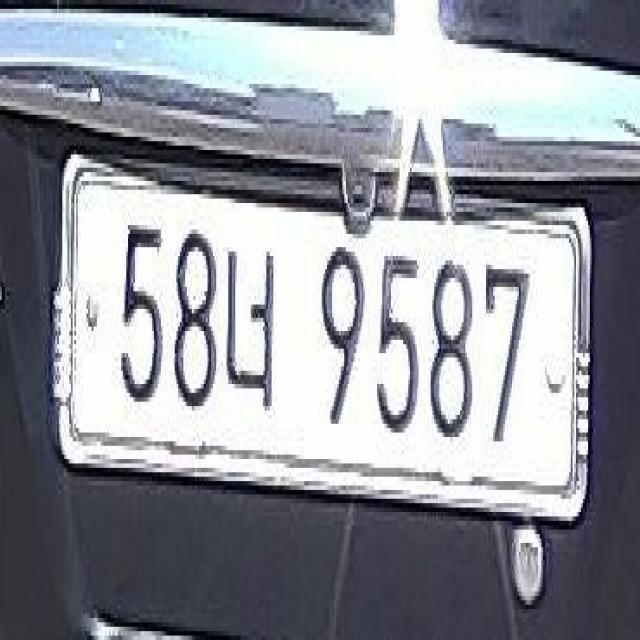5: (114, 206, 164, 412), (372, 241, 422, 439)
7: (480, 238, 530, 460)
8: (169, 218, 219, 416), (428, 238, 473, 450)
9: (315, 233, 369, 440)
license_plate: (51, 133, 600, 541)
neo: (223, 228, 278, 421)
